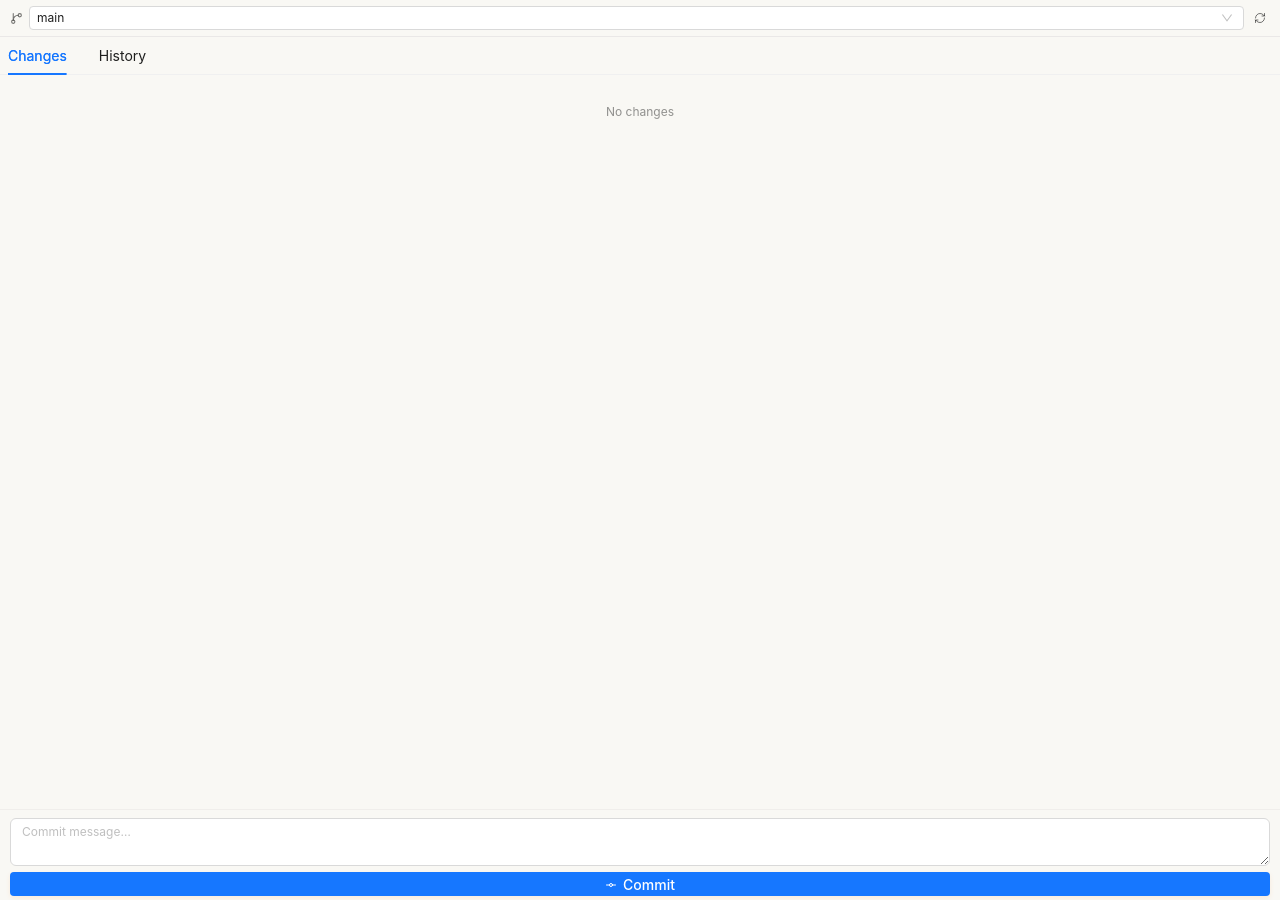
Scenario: GitPanel › shows the empty history state
The image size is (1280, 900).
Expected: the text "No changes" is shown, [606,104,674,119]
Click the tab "History" at (122, 56), box [99,45,146,67]
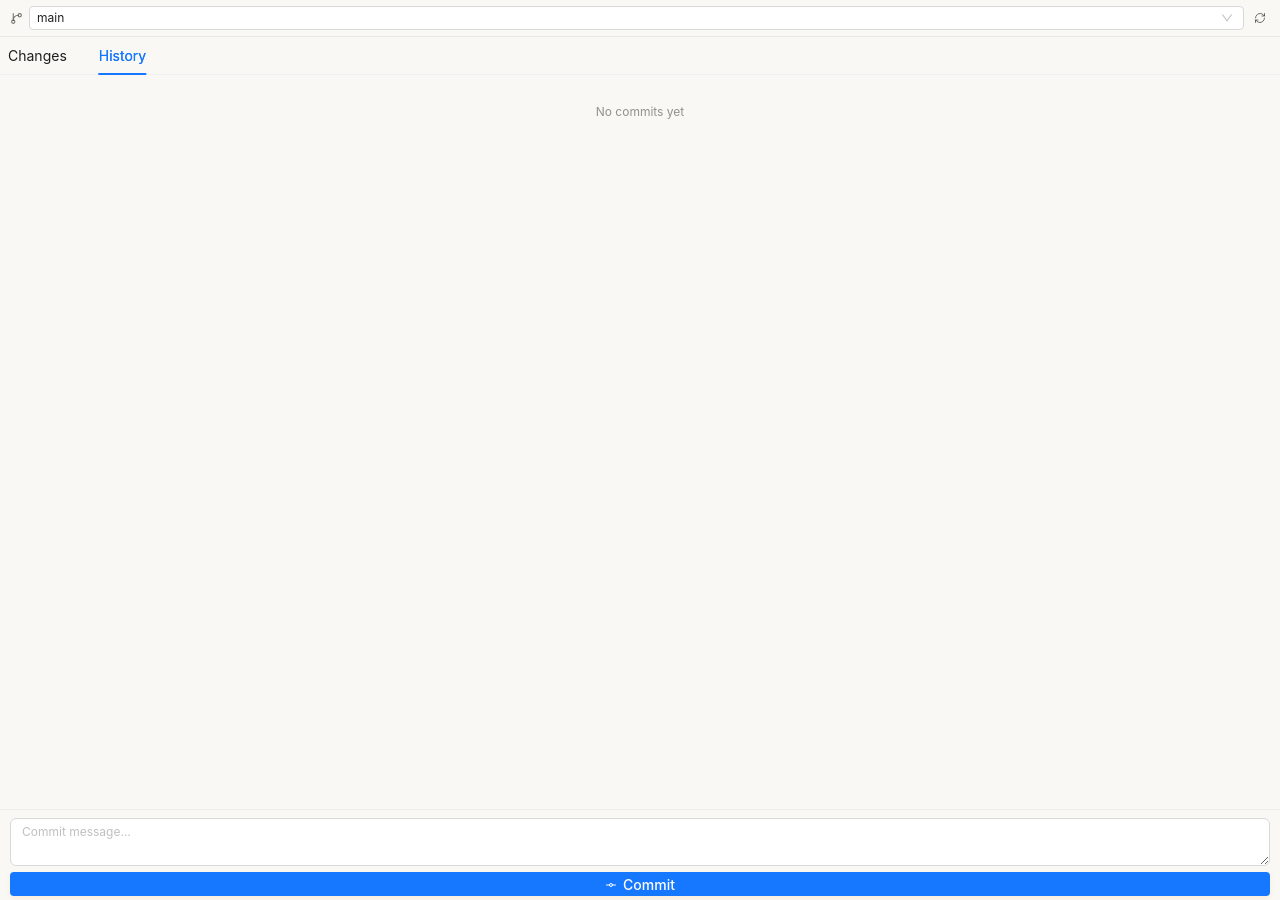
Now the text "No commits yet" is shown, box [596,104,684,119]
